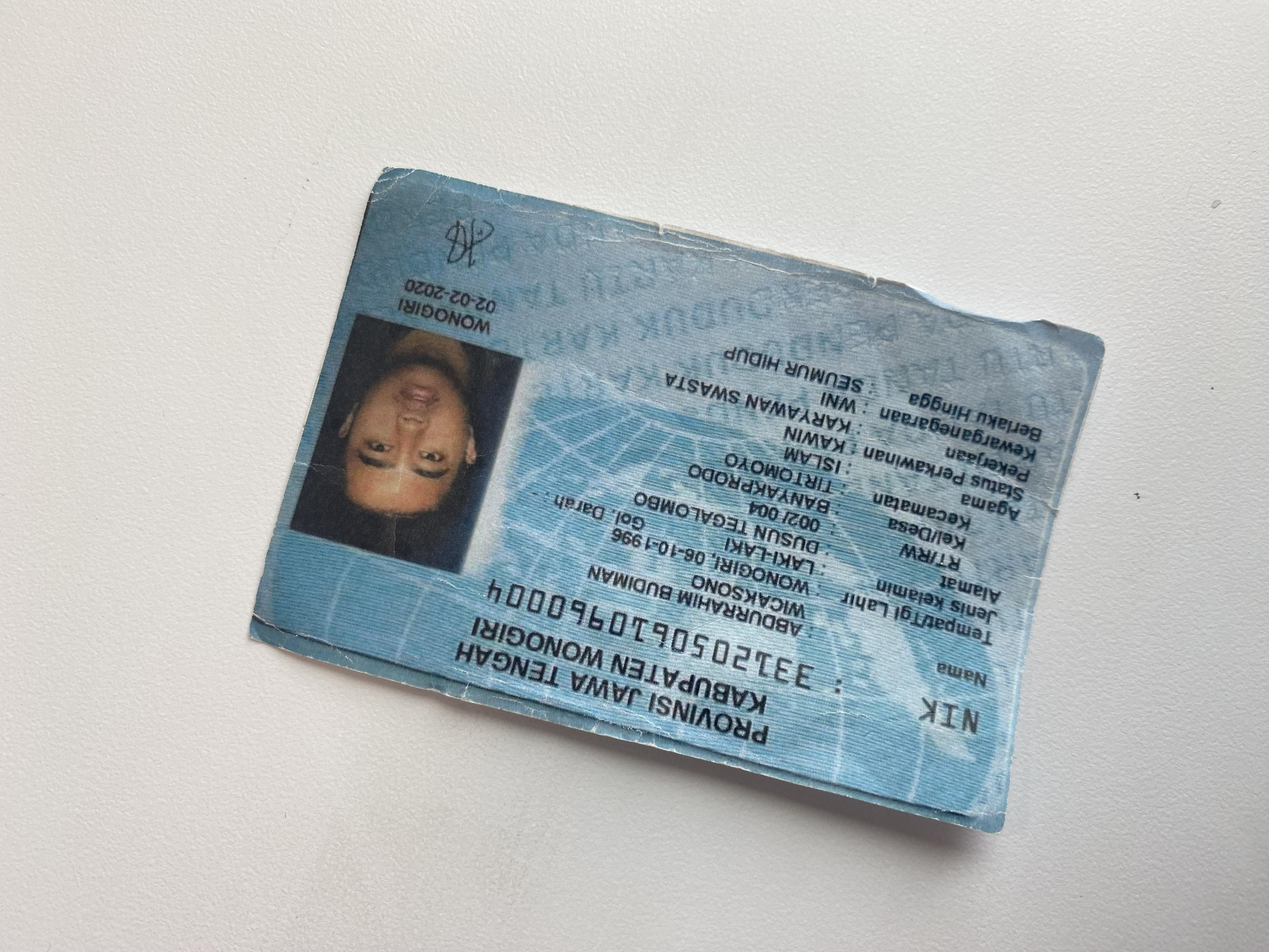ID-card: (154, 188, 1048, 834)
